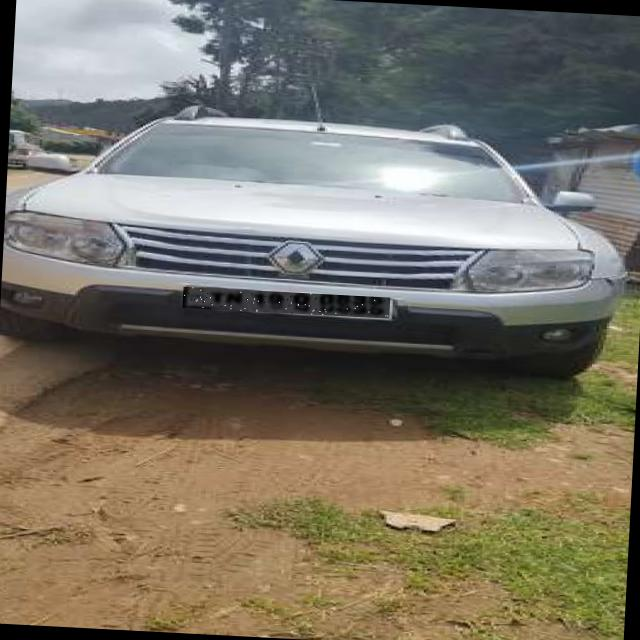Plate: (184, 288, 392, 320)
